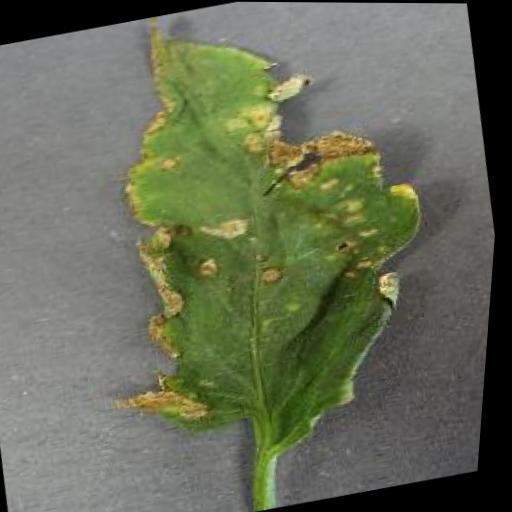Bacterial Spot: (42, 0, 477, 481)
